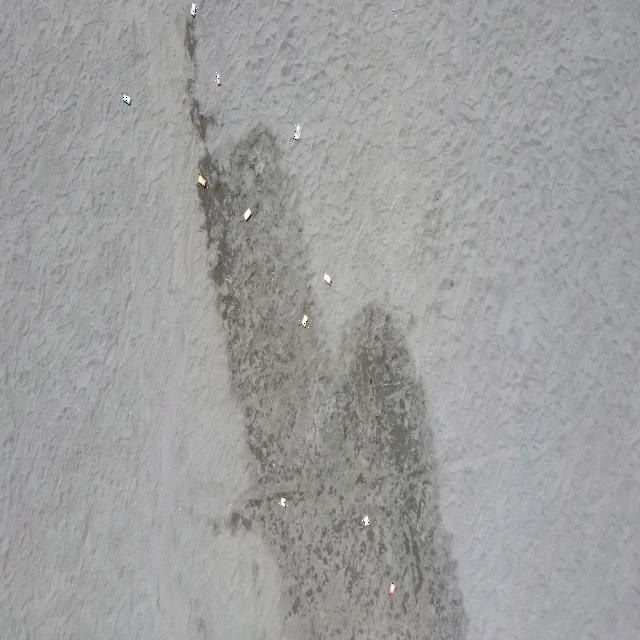retort-pouch: (196, 174, 208, 189), (321, 272, 333, 287), (242, 207, 253, 222), (293, 124, 302, 142), (121, 93, 132, 107), (190, 2, 198, 20), (298, 314, 308, 328), (362, 514, 371, 528), (278, 498, 288, 510), (388, 583, 396, 597), (214, 72, 220, 88)
